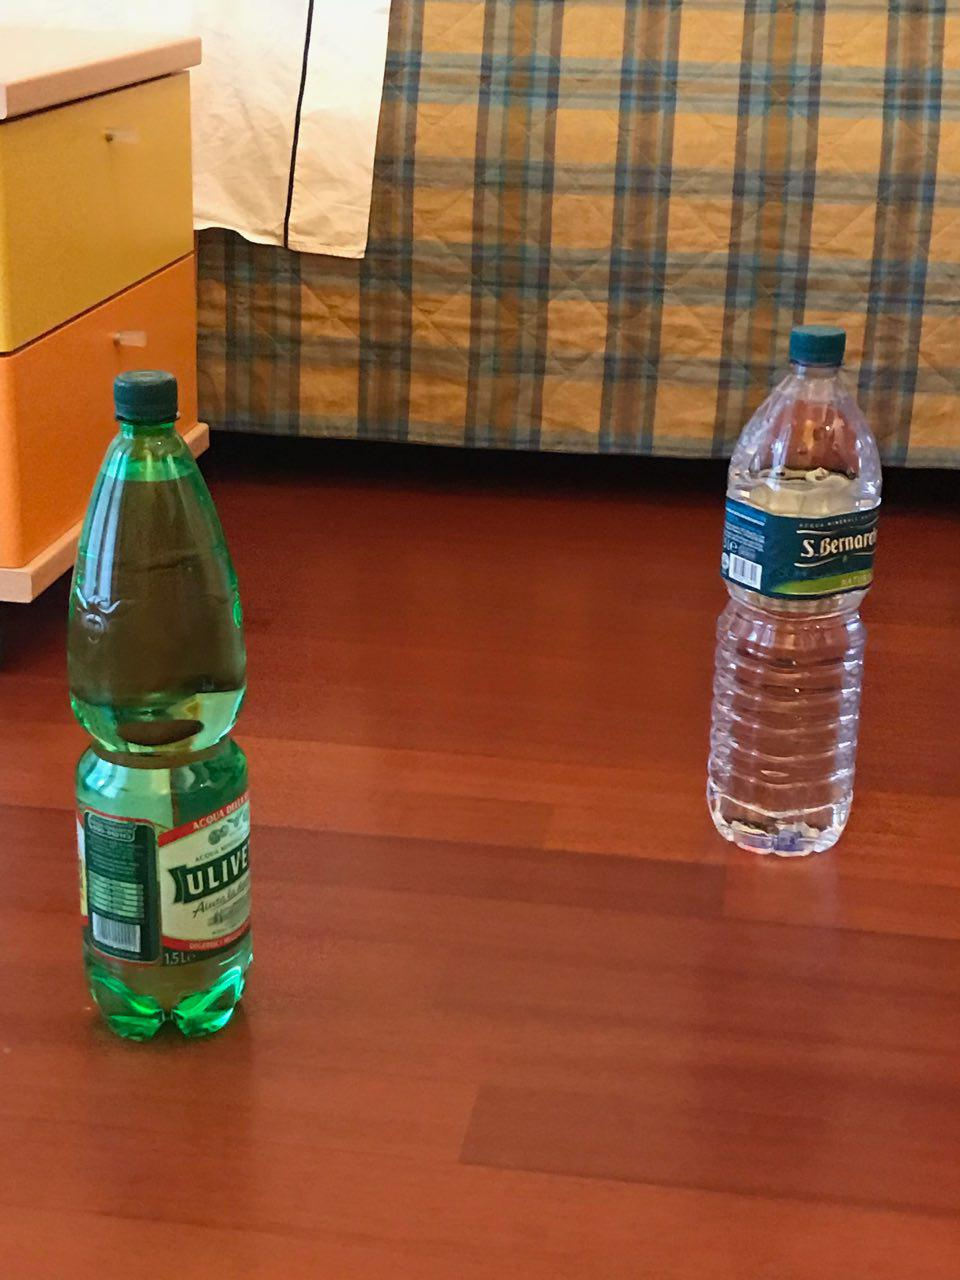san_bernardo: (705, 325, 883, 856)
